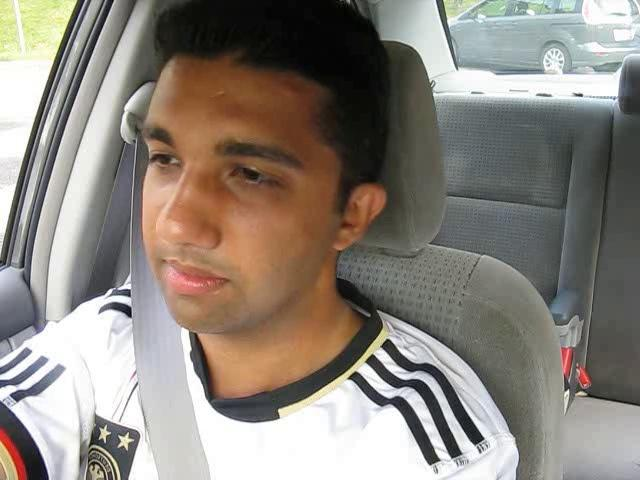close_eyeL: (137, 137, 193, 180)
close_eyeR: (212, 148, 302, 203)
no_yawn: (138, 251, 244, 303)
